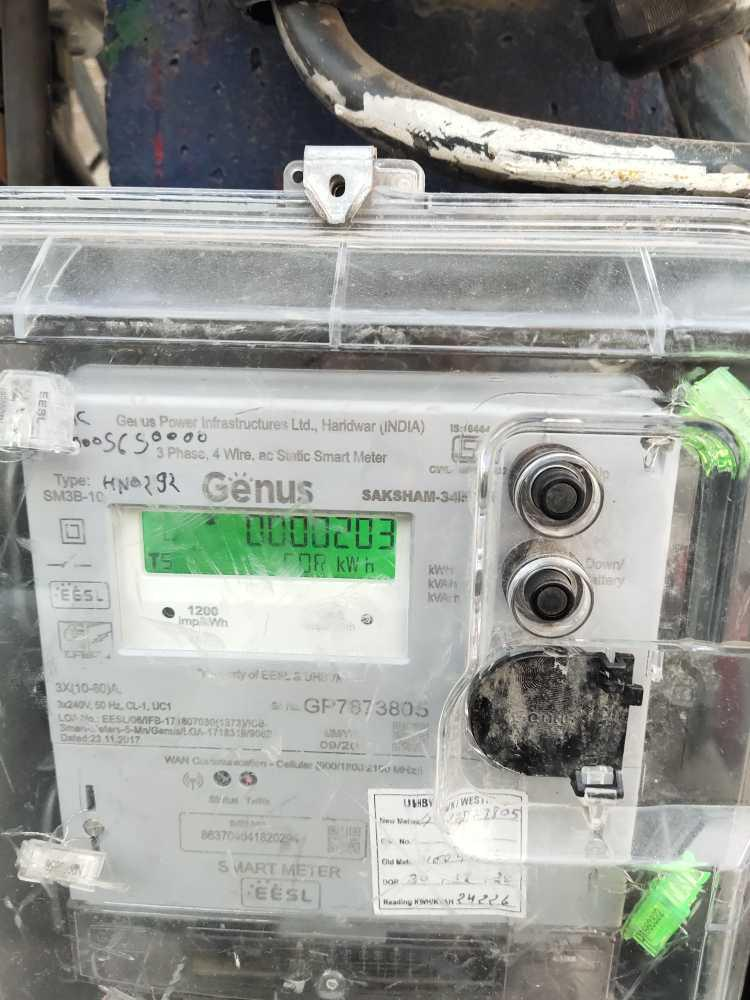.: (334, 553, 377, 576)
1: (243, 514, 267, 547), (287, 516, 310, 548), (353, 517, 374, 549), (267, 515, 288, 546), (312, 516, 329, 550)
3: (334, 516, 352, 550)
4: (378, 517, 396, 551)
